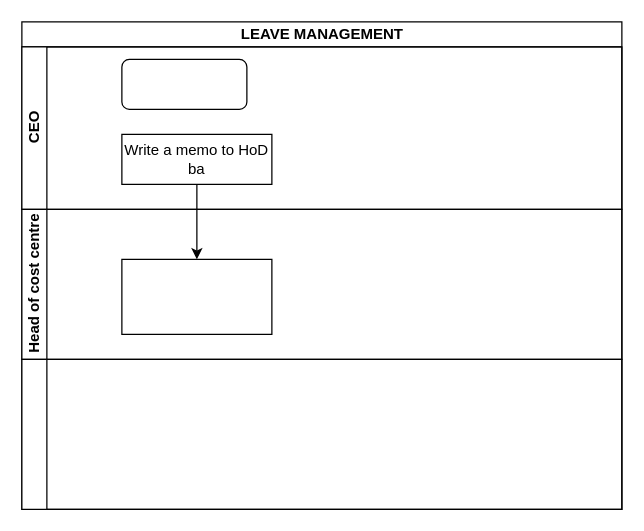
This 644x531 diagram has some shape labels left out. Here are the shapes that lost their labels. From the top down, the centre of each, then its label:
At [184,83]: "Start".
At [321,433]: "Lane 3".
